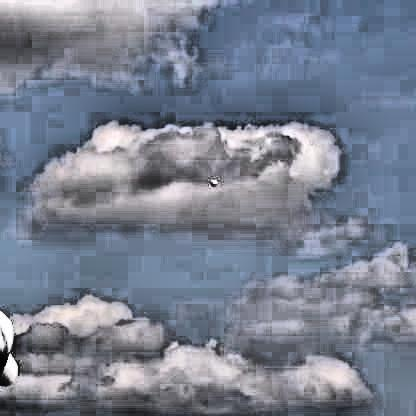golfball: (207, 176, 215, 184)
